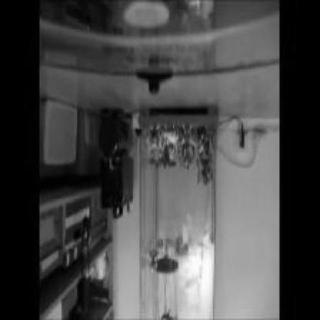other: (177, 227, 217, 305)
